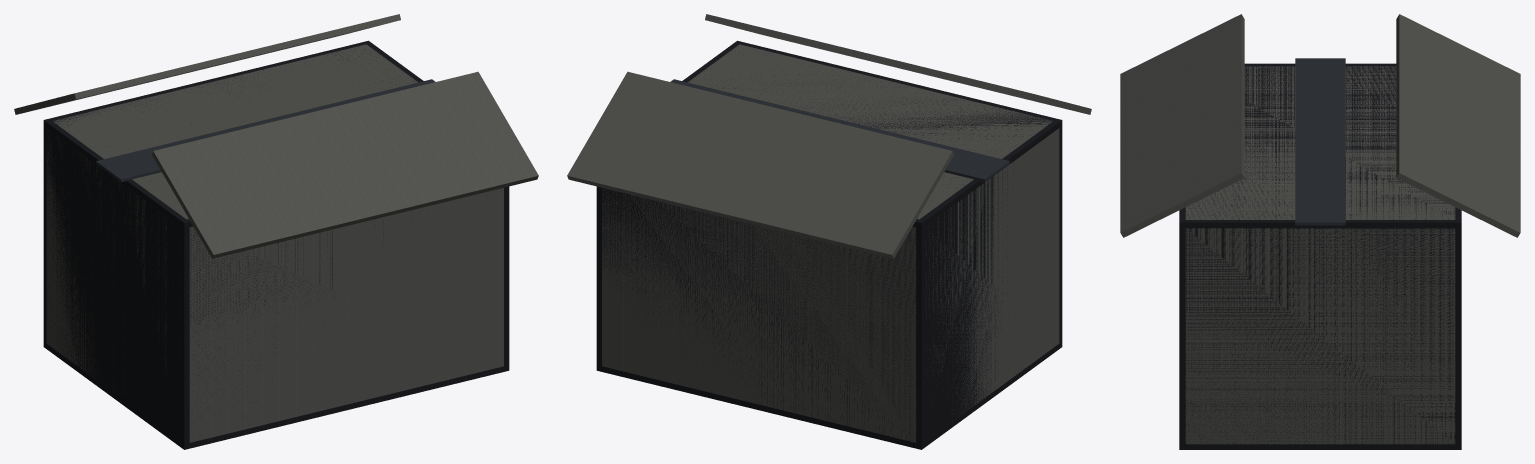
Rendered from kit_cardboard_box.glb.
3 renders of one model, left to right at view 1: azimuth 30°, elevation 25°; view 2: azimuth 150°, elevation 25°; view 3: azimuth 270°, elevation 25°, orthographic.
Visible parts, largest first — view 1: cb_body, cb_flap-1, cb_COL, cb_flap1, cb_tape; view 2: cb_body, cb_COL, cb_flap1, cb_flap-1, cb_tape; view 3: cb_body, cb_COL, cb_flap1, cb_flap-1, cb_tape.
Boxes of the visible parts, x1,y1,x2,y2 form: cb_body: (46, 44, 503, 442); cb_flap-1: (152, 71, 538, 258); cb_COL: (43, 40, 509, 449); cb_flap1: (14, 14, 400, 114); cb_tape: (96, 79, 435, 182); cb_body: (602, 44, 1059, 442); cb_COL: (596, 40, 1062, 449); cb_flap1: (567, 71, 953, 258); cb_flap-1: (705, 14, 1091, 114); cb_tape: (670, 79, 1009, 182); cb_body: (1185, 66, 1455, 444); cb_COL: (1179, 63, 1461, 449); cb_flap1: (1396, 14, 1520, 237); cb_flap-1: (1120, 14, 1244, 237); cb_tape: (1295, 58, 1345, 225).
Size of the model in its own units: 0.62 by 0.4871 by 0.6379.
3 materials, 3 textured.
